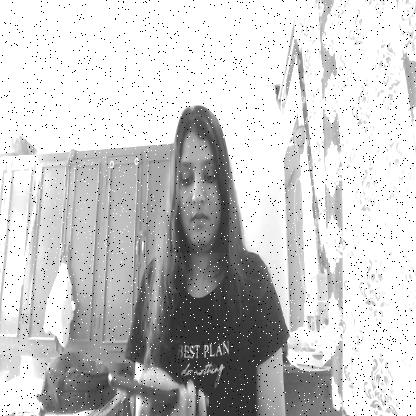Normal: (170, 106, 229, 253)
